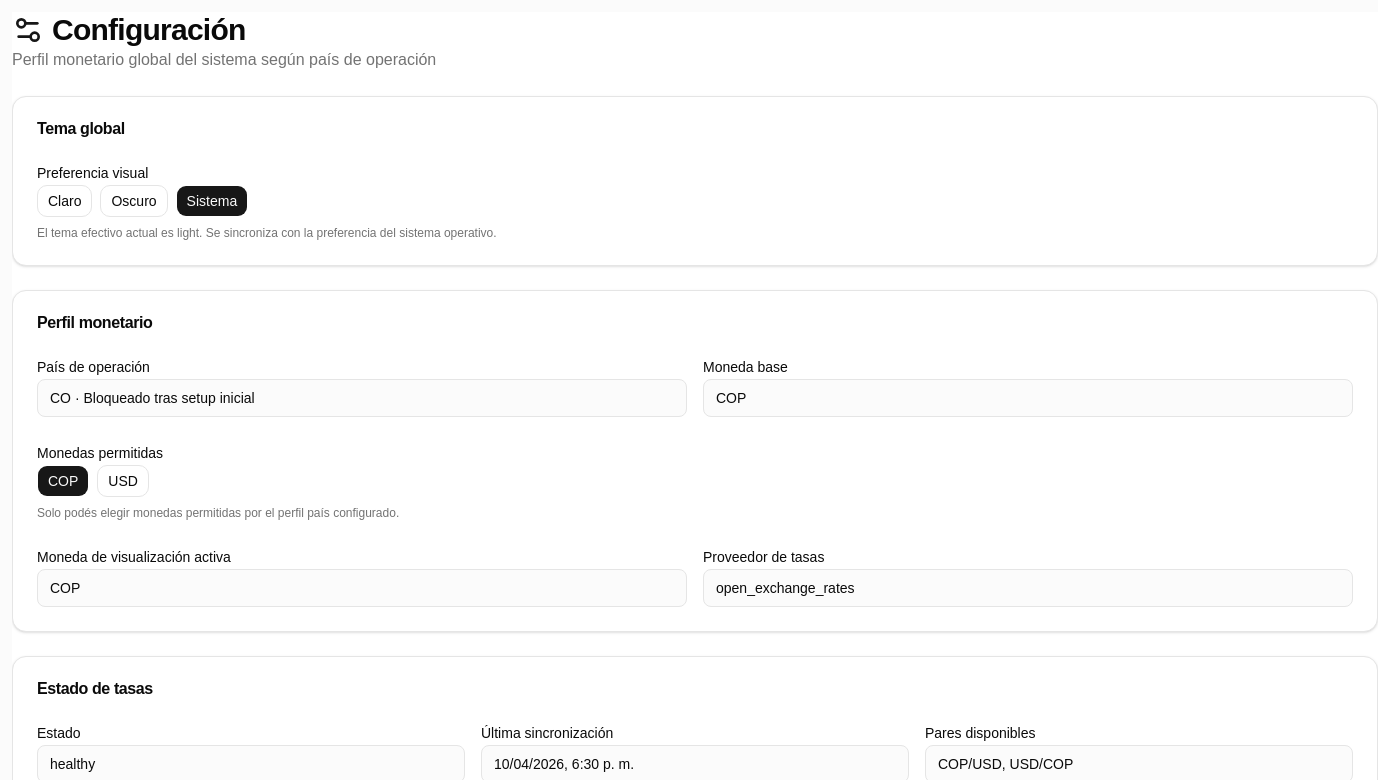
Scenario: SettingsPage › allows switching global theme preference
Click the button "Oscuro" at (134, 201), box [100,185,168,217]
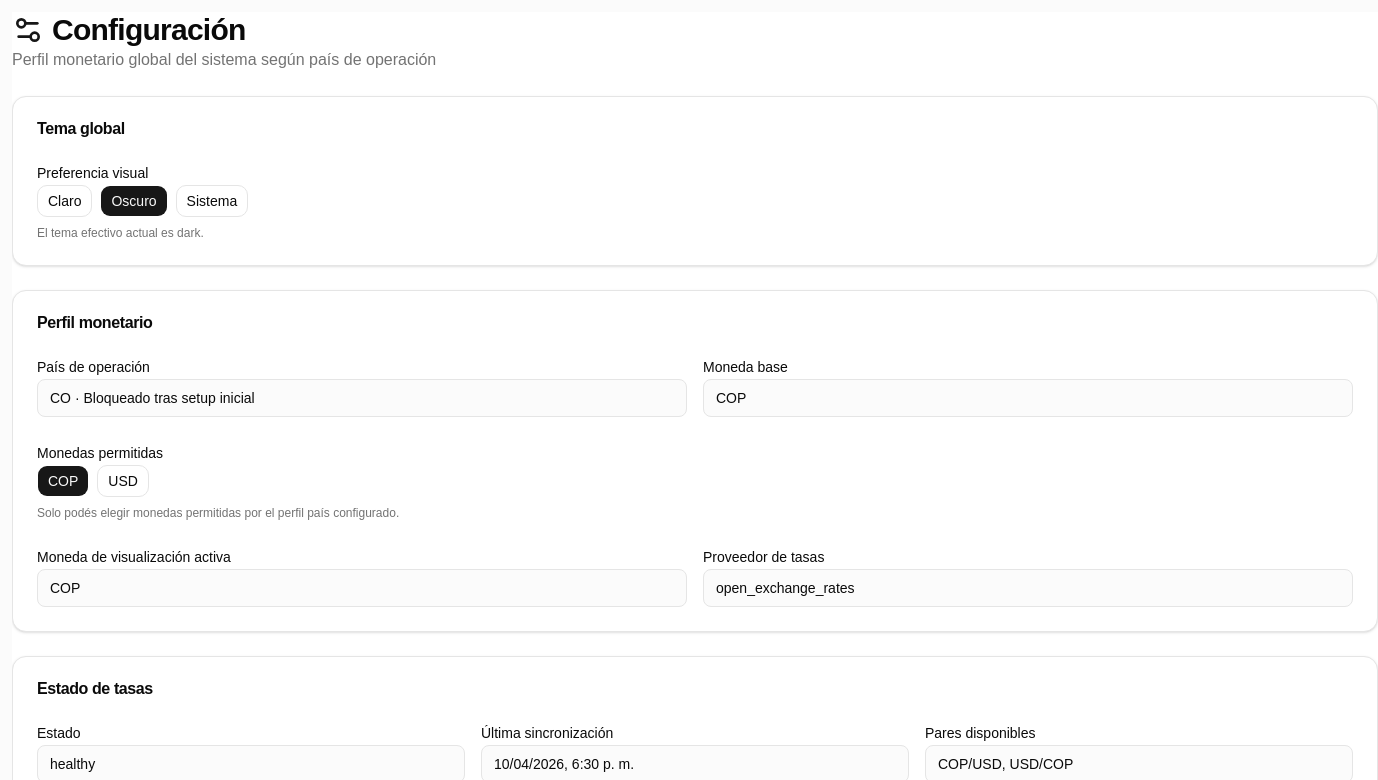
Check: the text "dark" is shown, box [177,226,200,240]
